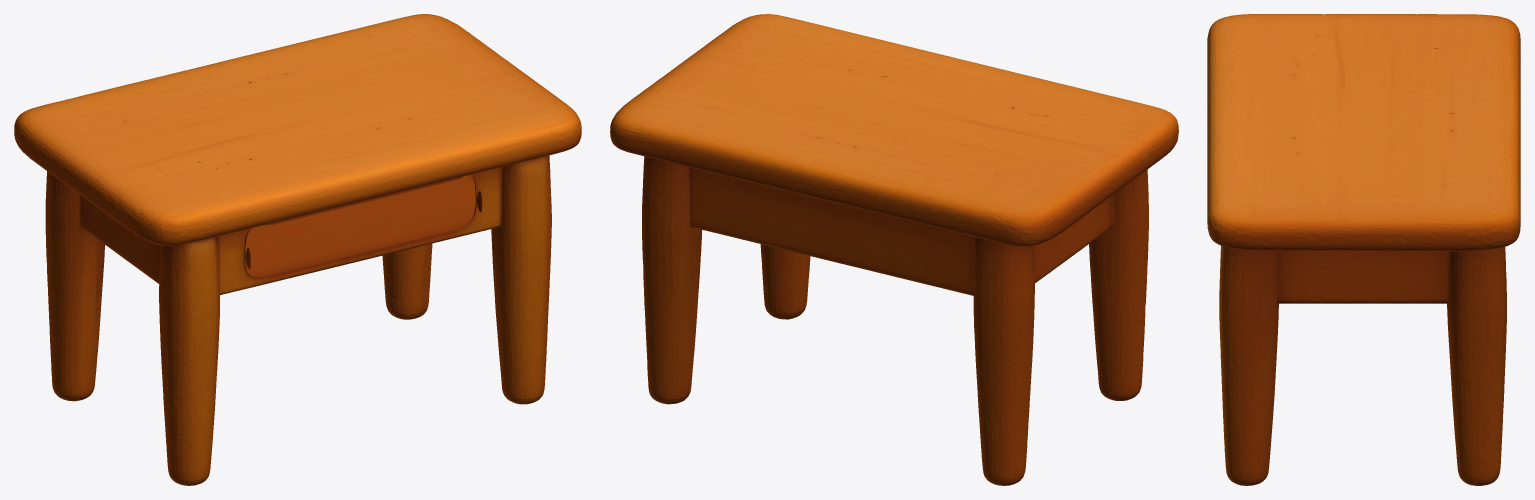
Rendered from table_body.glb.
3 renders of one model, left to right at view 1: azimuth 30°, elevation 25°; view 2: azimuth 150°, elevation 25°; view 3: azimuth 270°, elevation 25°, orthographic.
Visible parts, largest first — view 1: source_surface_0; view 2: source_surface_0; view 3: source_surface_0.
Boxes of the visible parts, bbox=[...] form: source_surface_0: bbox=[14, 14, 581, 485]; source_surface_0: bbox=[610, 14, 1178, 485]; source_surface_0: bbox=[1207, 14, 1520, 485].
Bounding box in the file's own units: 0.6 × 0.3716 × 0.3704.
Materials: 1 (1 with a texture image).
